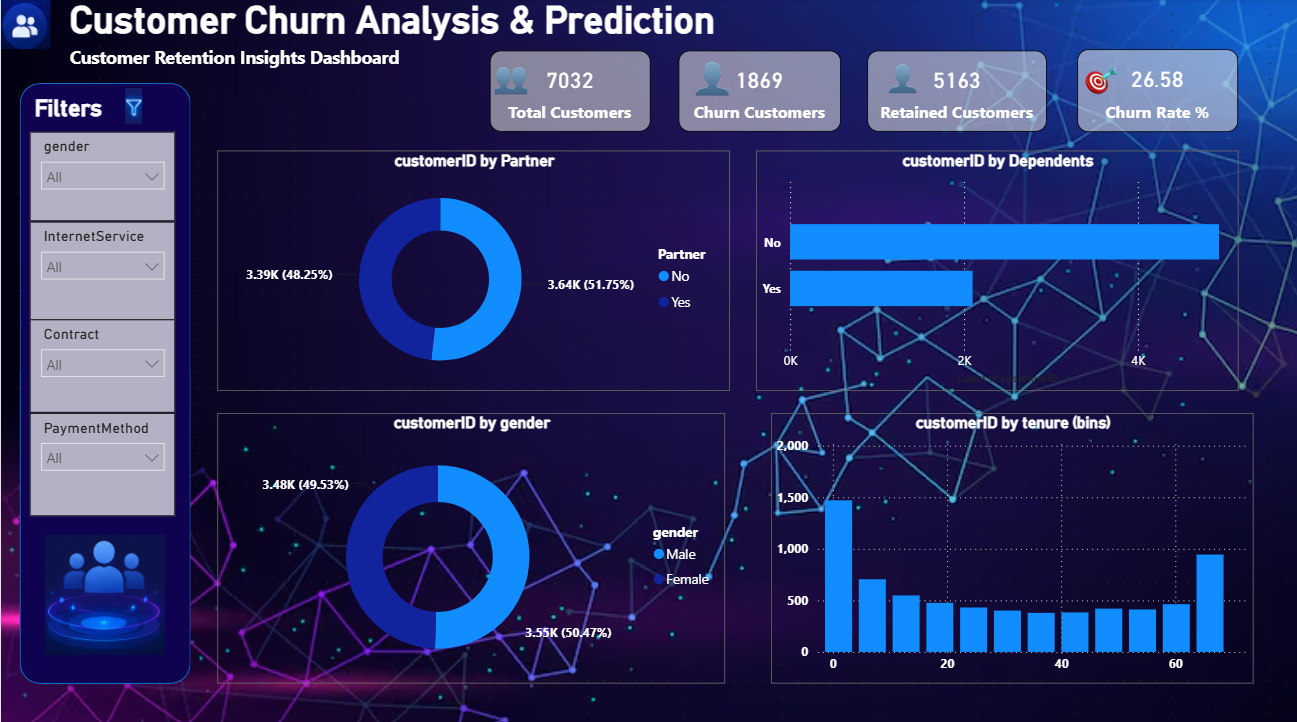

The dashboard page shown, as its layout file describes it:
{"tool":"powerbi","page":{"name":"Customer Demographics","canvas":[1280,720],"ordinal":0},"visuals":[{"type":"donutChart","title":"customerID by gender","fields":{"Category":["CustomerChurn.gender"],"Y":["CountNonNull(CustomerChurn.customerID)"]},"box":[213.3,408.3,500,266.7],"z":0},{"type":"donutChart","title":"customerID by Partner","fields":{"Category":["CustomerChurn.Partner"],"Y":["CountNonNull(CustomerChurn.customerID)"]},"box":[213.3,150,505,236.7],"z":1000},{"type":"barChart","title":"customerID by Dependents","fields":{"Category":["CustomerChurn.Dependents"],"Y":["CountNonNull(CustomerChurn.customerID)"]},"box":[743.3,150,475,236.7],"z":2000},{"type":"card","fields":{"Values":["CustomerChurn.Total Customers"]},"box":[481.7,51.7,158.3,80],"z":3000},{"type":"card","fields":{"Values":["CustomerChurn.Churn Customers"]},"box":[666.7,51.7,160,80],"z":4000},{"type":"card","fields":{"Values":["CustomerChurn.Retained Customers"]},"box":[853.3,51.7,176.7,80],"z":5000},{"type":"card","fields":{"Values":["CustomerChurn.Churn Rate %"]},"box":[1060,50,158.3,81.7],"z":6000},{"type":"textbox","title":"Customer Churn Analysis & Prediction ","box":[63.3,0,918.3,78.3],"z":7000},{"type":"shape","box":[18.3,83.3,168.3,591.7],"z":8000},{"type":"slicer","fields":{"Values":["CustomerChurn.gender"]},"box":[28.3,131.7,143.3,88.3],"z":9000},{"type":"slicer","fields":{"Values":["CustomerChurn.Contract"]},"box":[28.3,316.7,143.3,91.7],"z":10000},{"type":"textbox","title":"Filters","box":[28.3,95,91.7,28.3],"z":11000},{"type":"slicer","fields":{"Values":["CustomerChurn.PaymentMethod"]},"box":[28.3,408.3,143.3,101.7],"z":12000},{"type":"image","box":[43.3,526.7,118.3,121.7],"z":13000},{"type":"clusteredColumnChart","title":"customerID by tenure (bins)","fields":{"Category":["CustomerChurn.tenure (bins)"],"Y":["CountNonNull(CustomerChurn.customerID)"]},"box":[758.3,408.3,475,266.7],"z":14000},{"type":"slicer","fields":{"Values":["CustomerChurn.InternetService"]},"box":[28.3,220,143.3,96.7],"z":15000},{"type":"image","box":[873.3,63.3,28.3,33.3],"z":16000},{"type":"image","box":[655,63.3,91.7,33.3],"z":17000},{"type":"image","box":[1060,63.3,48.3,31.7],"z":18000},{"type":"image","box":[481.7,61.7,41.7,33.3],"z":19000},{"type":"image","box":[100,88.3,61.7,35],"z":20000},{"type":"image","box":[0,0,48.8,51.2],"z":21000}]}

Visuals, with their boxes in screenshot pixels (x1, y1, x2, y2), scaled from the page's 1280x720 canvas onto the 1297x722 screenshot:
"customerID by gender" donutChart: rect(216, 409, 723, 677)
"customerID by Partner" donutChart: rect(216, 150, 728, 388)
"customerID by Dependents" barChart: rect(753, 150, 1234, 388)
card - CustomerChurn.Total Customers: rect(488, 52, 648, 132)
card - CustomerChurn.Churn Customers: rect(676, 52, 838, 132)
card - CustomerChurn.Retained Customers: rect(865, 52, 1044, 132)
card - CustomerChurn.Churn Rate %: rect(1074, 50, 1234, 132)
"Customer Churn Analysis & Prediction " textbox: rect(64, 0, 995, 79)
shape: rect(19, 84, 189, 677)
slicer - CustomerChurn.gender: rect(29, 132, 174, 221)
slicer - CustomerChurn.Contract: rect(29, 318, 174, 410)
"Filters" textbox: rect(29, 95, 122, 124)
slicer - CustomerChurn.PaymentMethod: rect(29, 409, 174, 511)
image: rect(44, 528, 164, 650)
"customerID by tenure (bins)" clusteredColumnChart: rect(768, 409, 1250, 677)
slicer - CustomerChurn.InternetService: rect(29, 221, 174, 318)
image: rect(885, 63, 914, 97)
image: rect(664, 63, 757, 97)
image: rect(1074, 63, 1123, 95)
image: rect(488, 62, 530, 95)
image: rect(101, 89, 164, 124)
image: rect(0, 0, 49, 51)
